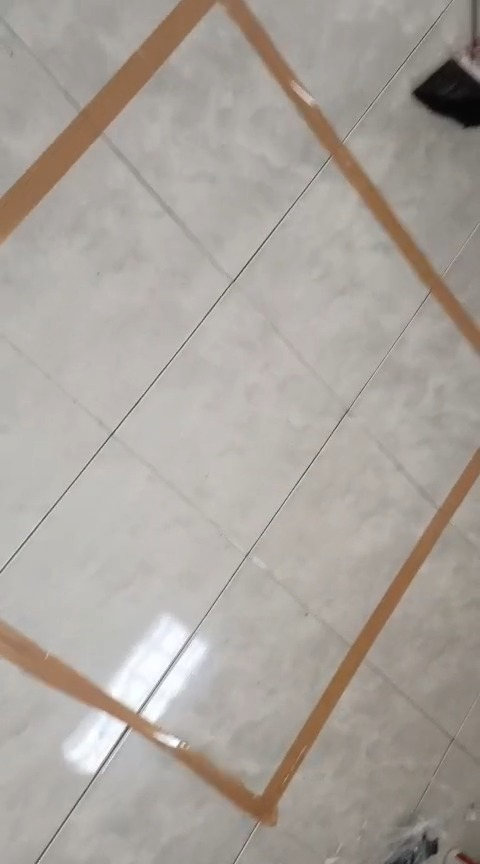floor marking: (0, 450, 479, 824), (222, 0, 479, 350), (0, 0, 216, 243)
